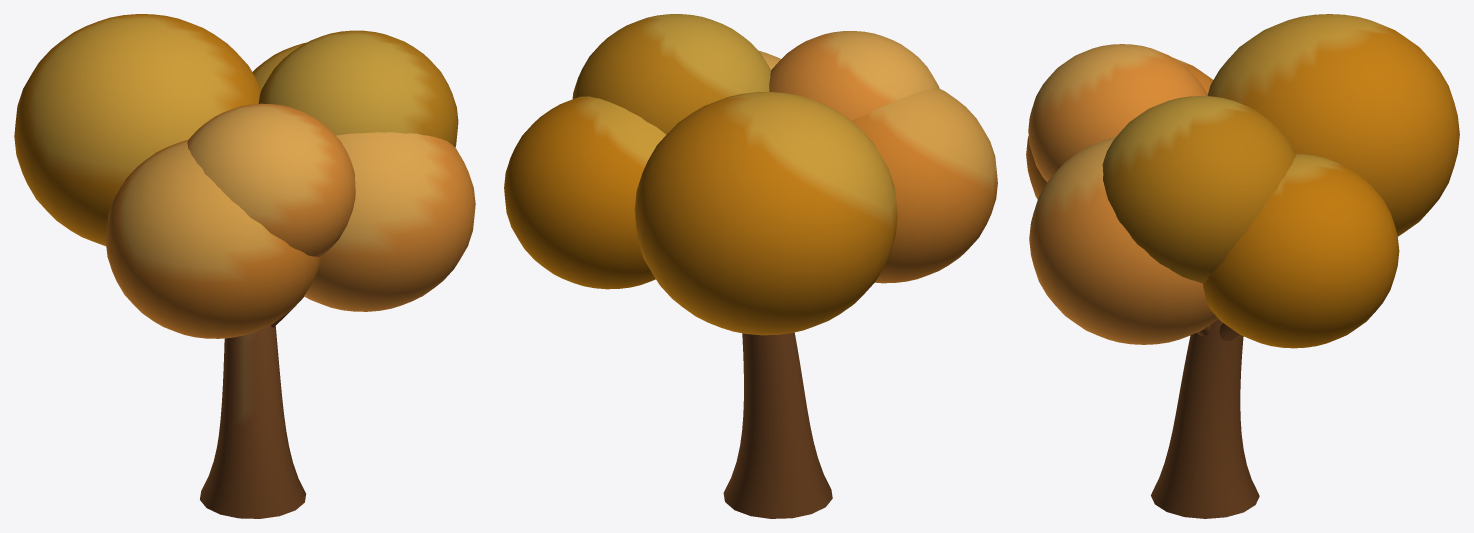
The model's file is tree-109.obj.
The picture shows the model from 3 angles, left to right: view 1: azimuth 30°, elevation 25°; view 2: azimuth 150°, elevation 25°; view 3: azimuth 270°, elevation 25°; orthographic projection. The views are drawn at different scales.
Parts seen in each view (by area): view 1: tree; view 2: tree; view 3: tree.
Part boxes in pixels (x1,y1,x2,y2): tree: [14, 14, 475, 518]; tree: [504, 14, 997, 518]; tree: [1026, 14, 1459, 518].
Size of the model in its own units: 291 by 323 by 286.
